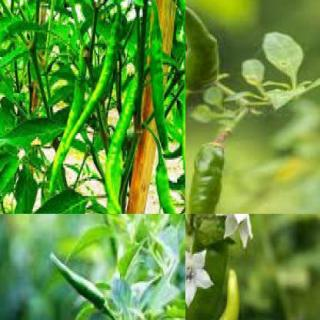green_chilli: (60, 6, 125, 166), (47, 46, 88, 202), (185, 246, 244, 320), (104, 74, 141, 187), (49, 252, 107, 314), (148, 7, 171, 156), (185, 4, 221, 92), (185, 149, 233, 213), (153, 162, 185, 213), (108, 154, 124, 213)
